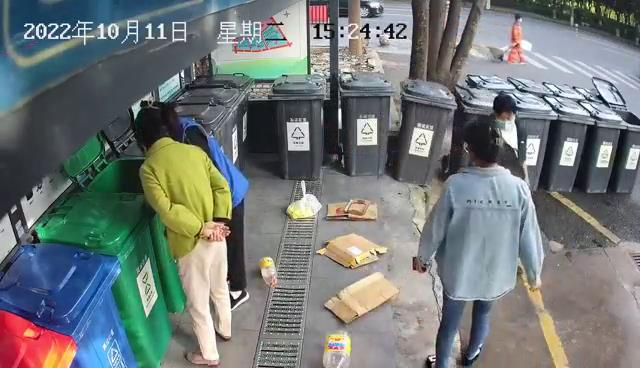garbage-bag: (285, 179, 322, 222)
person: (132, 115, 235, 368), (489, 91, 537, 189)
suliaozhipin: (321, 330, 353, 368), (257, 256, 280, 288)
worker: (411, 114, 544, 368), (140, 96, 249, 310)
zhizhipin: (322, 271, 401, 325), (313, 232, 390, 270), (324, 198, 379, 222)
